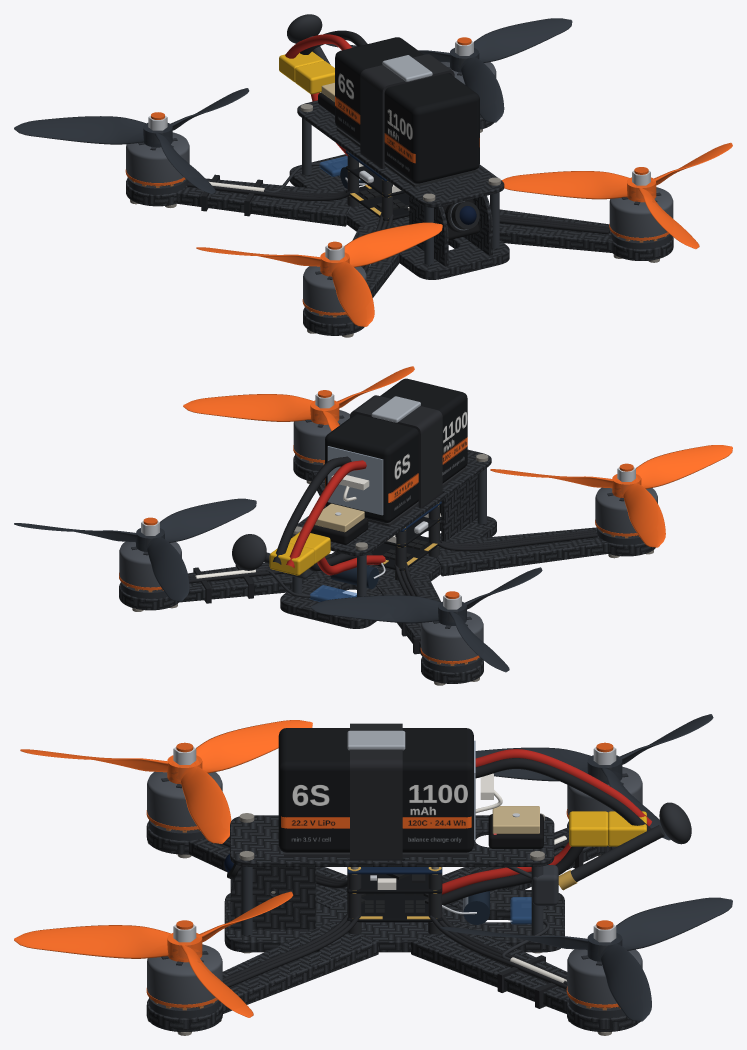
File: kestrel5.glb
3 renders of one model, top to bottom at view 1: azimuth 30°, elevation 25°; view 2: azimuth 150°, elevation 25°; view 3: azimuth 270°, elevation 25°, orthographic. The views are drawn at different scales.
Parts seen in each view (by area): view 1: LiPo pack, Blade 2 (×3), Blade 1 (×4), Bell (×3), Blade 3 (×4), Arm M1, Bottom plate, Top plate, Arm M4, Strap, Camera side plate (×2), Arm M2 (+8 smaller); view 2: LiPo pack, Blade 1 (×4), Bell (×4), Blade 3 (×4), Arm M2, Blade 2 (×3), Bottom plate, Strap, Arm M3, Top plate, Cell end tape, Arm M1 (+14 smaller); view 3: LiPo pack, Bell (×4), Blade 2 (×4), Blade 3 (×4), Blade 1 (×4), Bottom plate, Strap, Top plate, Arm M4, Arm M3, Camera side plate, PCB (×3) (+22 smaller).
Part boxes in pixels (box(x1,y1,x2,y2)): LiPo pack: box(335, 37, 479, 183); Blade 2 (×3): box(14, 116, 630, 266); Blade 1 (×4): box(170, 18, 732, 267); Bell (×3): box(126, 132, 673, 315); Blade 3 (×4): box(155, 57, 699, 326); Arm M1: box(126, 178, 351, 226); Bottom plate: box(289, 154, 509, 279); Top plate: box(297, 100, 504, 207); Arm M4: box(499, 209, 673, 260); Strap: box(360, 54, 454, 168); Camera side plate (×2): box(409, 195, 492, 266); Arm M2: box(303, 226, 399, 335); LiPo pack: box(325, 378, 467, 522); Blade 1 (×4): box(14, 394, 612, 623); Bell (×4): box(119, 410, 657, 663); Blade 3 (×4): box(160, 366, 732, 609); Arm M2: box(435, 527, 655, 576); Blade 2 (×3): box(147, 483, 665, 672); Bottom plate: box(280, 516, 496, 628); Strap: box(350, 395, 442, 508); Arm M3: box(119, 554, 331, 610); Top plate: box(291, 449, 491, 555); Cell end tape: box(327, 446, 383, 515); Arm M1: box(376, 576, 483, 683); LiPo pack: box(278, 728, 473, 852); Bell (×4): box(147, 766, 642, 1007); Blade 2 (×4): box(196, 714, 732, 950); Blade 3 (×4): box(14, 747, 591, 958); Blade 1 (×4): box(181, 766, 670, 1021); Bottom plate: box(224, 890, 564, 952); Strap: box(350, 723, 402, 860); Top plate: box(230, 815, 554, 866); Arm M4: box(146, 921, 378, 1031); Arm M3: box(411, 921, 639, 1031); Camera side plate: box(230, 866, 316, 929); PCB (×3): box(347, 867, 442, 922).
Size of the model in its own units: 0.2746 by 0.0811 by 0.2723.
310 materials, 10 textured.
